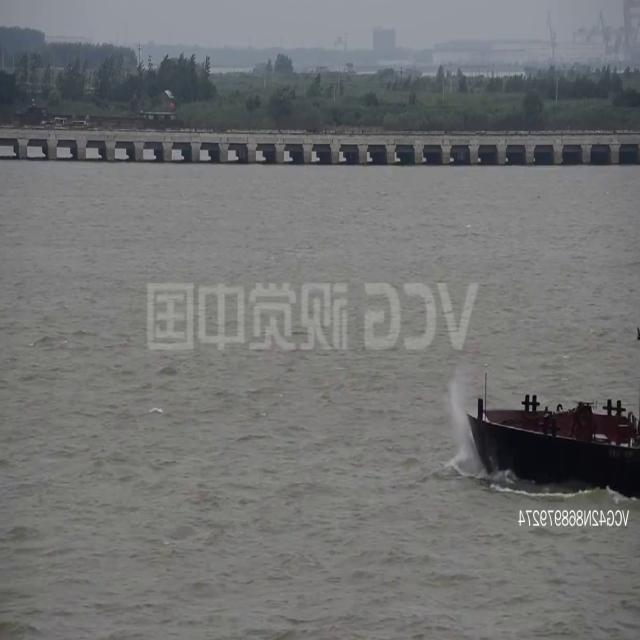houseboat: (468, 318, 640, 500)
